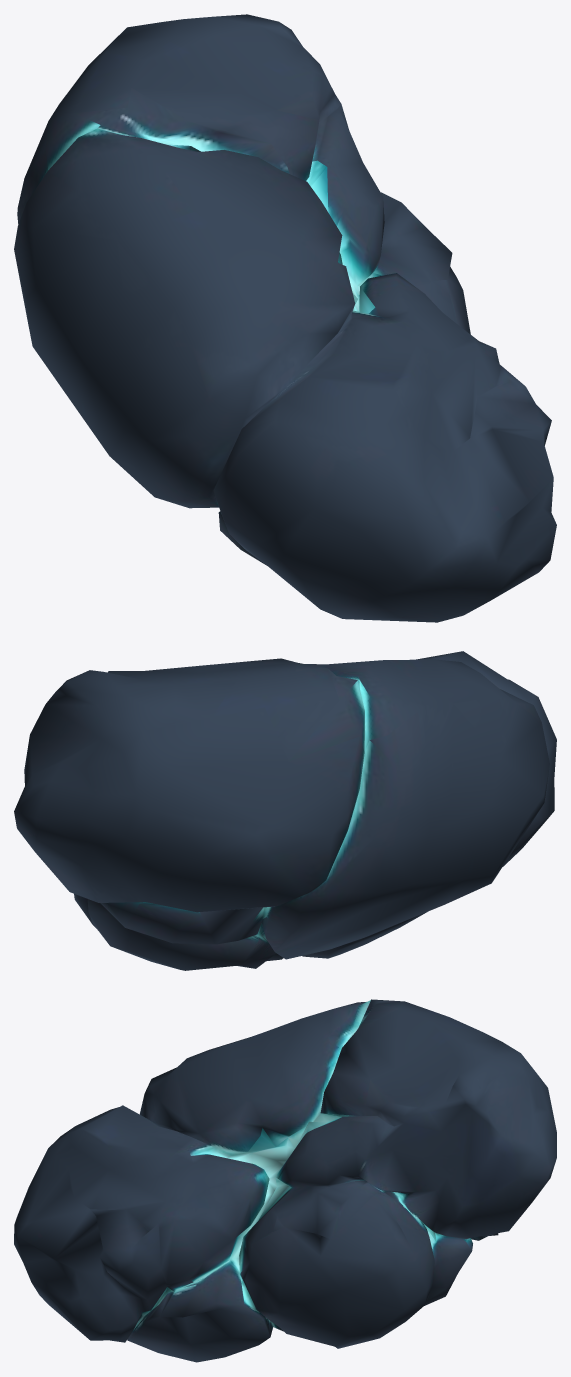
The model's file is rock3_low.fbx.
The picture shows the model from 3 angles, top to bottom: view 1: azimuth 30°, elevation 25°; view 2: azimuth 150°, elevation 25°; view 3: azimuth 270°, elevation 25°; orthographic projection. The views are drawn at different scales.
Parts seen in each view (by area): view 1: rock_low; view 2: rock_low; view 3: rock_low.
Boxes of the visible parts, box(x1,y1,x2,y2) form: rock_low: box(14, 14, 556, 622); rock_low: box(14, 651, 556, 970); rock_low: box(14, 999, 556, 1362).
Size of the model in its own units: 61.22 by 62.18 by 99.92.
